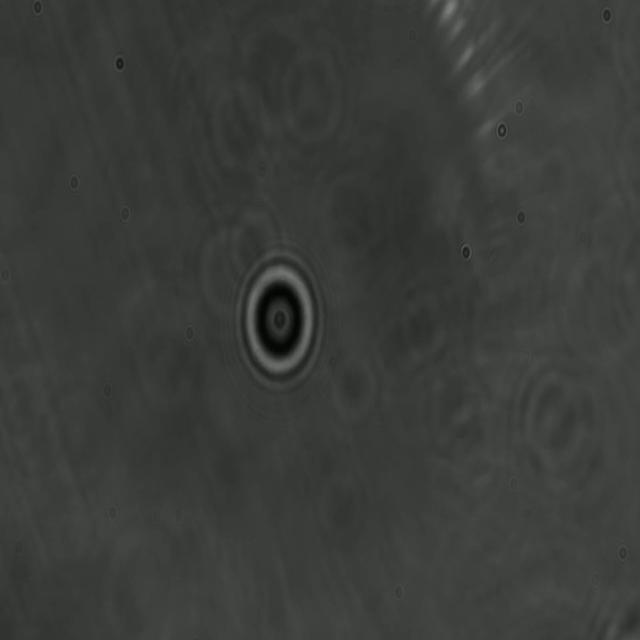LCELL: (234, 247, 328, 396)
